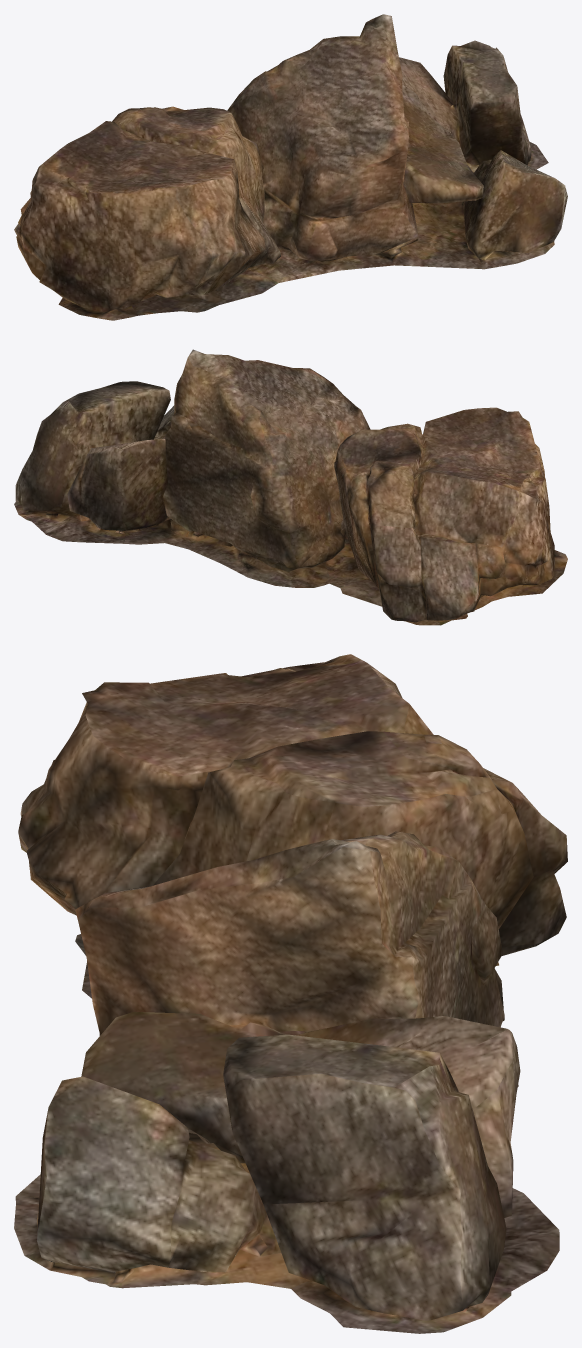
Rendered from namaqualand_boulder_02.glb.
3 views of the same model, one above another, from view 1: azimuth 30°, elevation 25°; view 2: azimuth 150°, elevation 25°; view 3: azimuth 270°, elevation 25° (orthographic). The views are drawn at different scales.
Parts seen in each view (by area): view 1: boulder_02; view 2: boulder_02; view 3: boulder_02.
Boxes of the visible parts, bbox=[...] form: boulder_02: bbox=[14, 14, 567, 320]; boulder_02: bbox=[14, 349, 567, 625]; boulder_02: bbox=[14, 654, 567, 1333].
Size of the model in its own units: 2.52 by 0.8802 by 1.23.
1 material, 1 textured.
